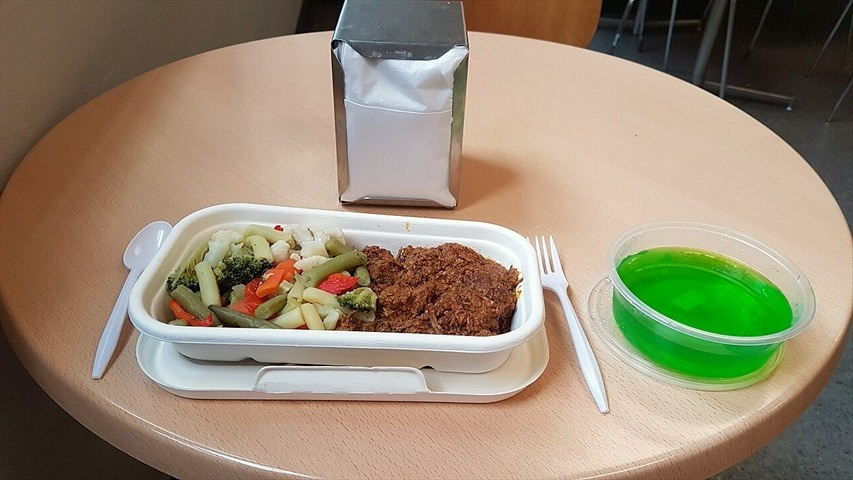Rendang: (125, 43, 776, 405)
